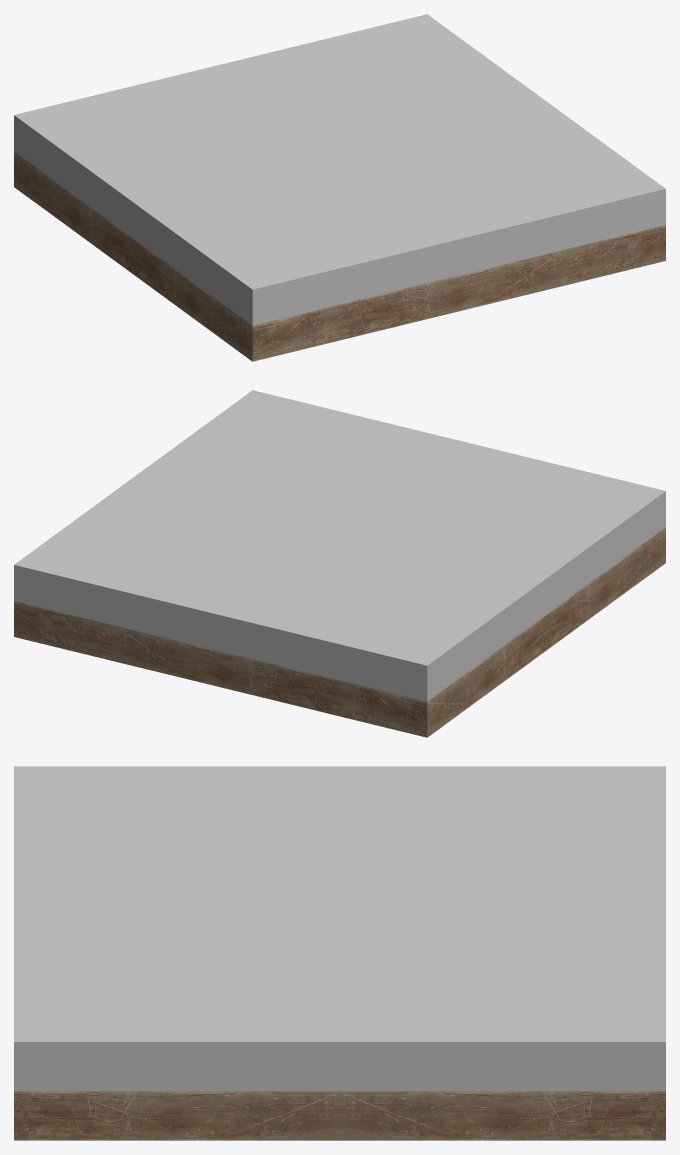
3 views of the same model, one above another, from view 1: azimuth 30°, elevation 25°; view 2: azimuth 150°, elevation 25°; view 3: azimuth 270°, elevation 25° (orthographic). The views are drawn at different scales.
Parts seen in each view (by area): view 1: SM_Greathall_Floor_3x3_01_LOD0; view 2: SM_Greathall_Floor_3x3_01_LOD0; view 3: SM_Greathall_Floor_3x3_01_LOD0.
Part boxes in pixels (x1,y1,x2,y2): SM_Greathall_Floor_3x3_01_LOD0: (14,14,665,361); SM_Greathall_Floor_3x3_01_LOD0: (14,390,665,737); SM_Greathall_Floor_3x3_01_LOD0: (14,766,665,1140).
Size of the model in its own units: 3 by 0.5 by 3.
